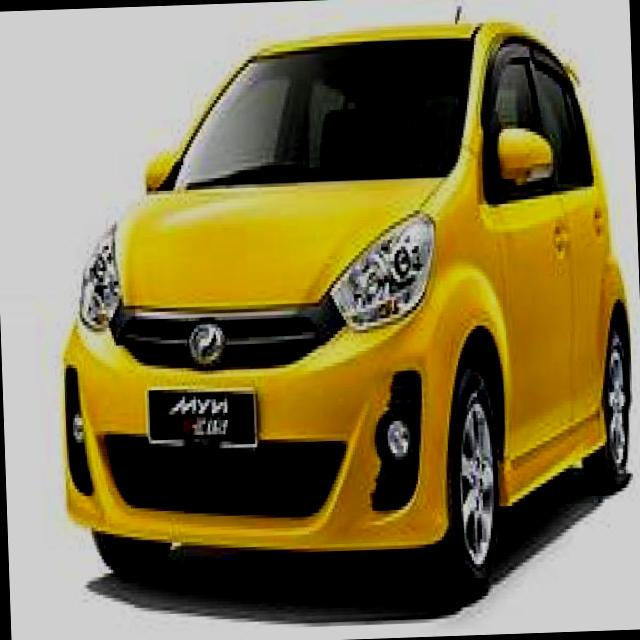PeroduaMyvi: (44, 0, 638, 613)
